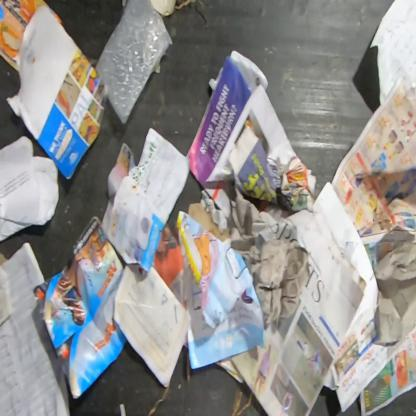cardboard: (4, 6, 107, 182), (186, 202, 232, 244)
soft_plastic: (93, 0, 175, 126), (0, 0, 63, 71)
